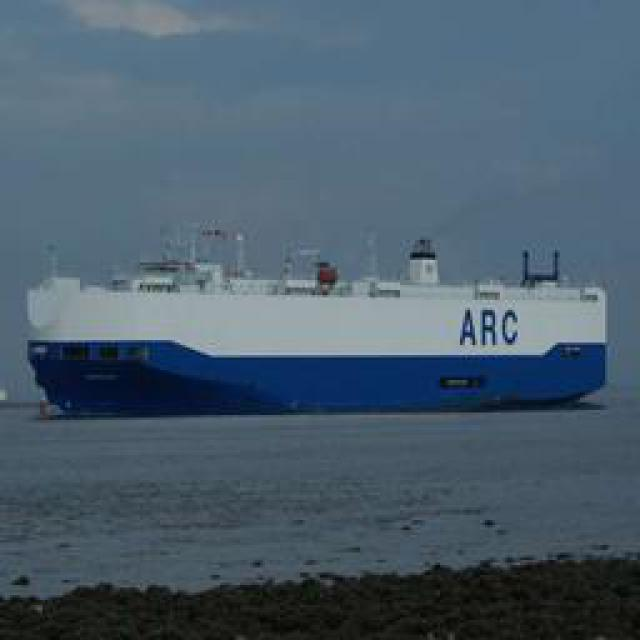Ship: (26, 232, 640, 418)
